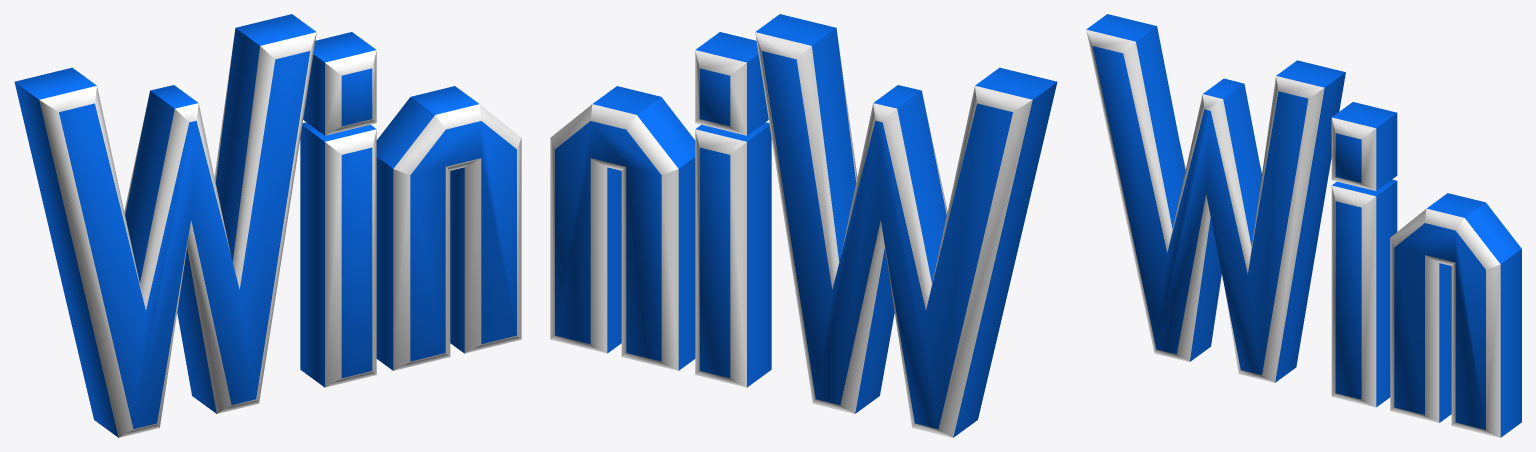
The model's file is win.fbx.
3 views of the same model, side by side, from view 1: azimuth 30°, elevation 25°; view 2: azimuth 150°, elevation 25°; view 3: azimuth 330°, elevation 25° (orthographic). The views are drawn at different scales.
Parts seen in each view (by area): view 1: w, n, i; view 2: w, n, i; view 3: w, n, i.
Part boxes in pixels (x1,y1,x2,y2): w: (14,14,316,437); n: (376,86,521,370); i: (300,32,376,387); w: (755,14,1057,437); n: (550,86,695,370); i: (695,32,771,387); w: (1086,14,1345,382); n: (1390,193,1521,437); i: (1331,102,1397,407).
Bounding box in the file's own units: 225 × 160 × 30.
